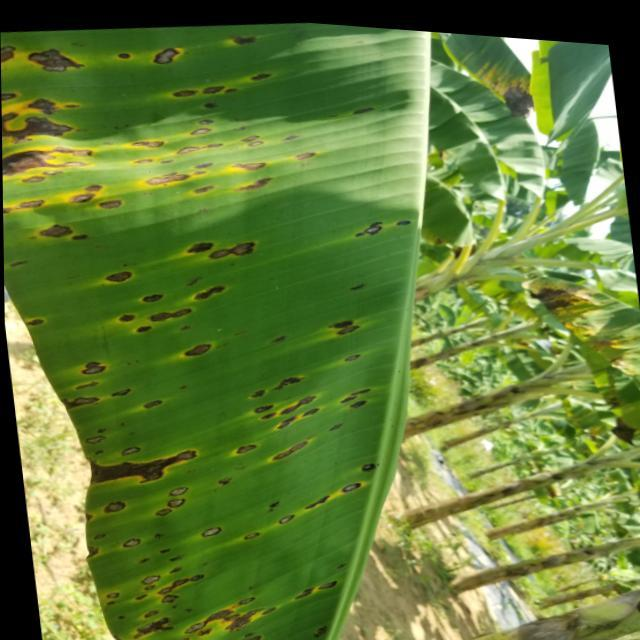Early_rust: (0, 0, 413, 640), (512, 235, 640, 377), (465, 34, 549, 135)
